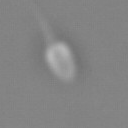normal: (26, 1, 54, 44)
